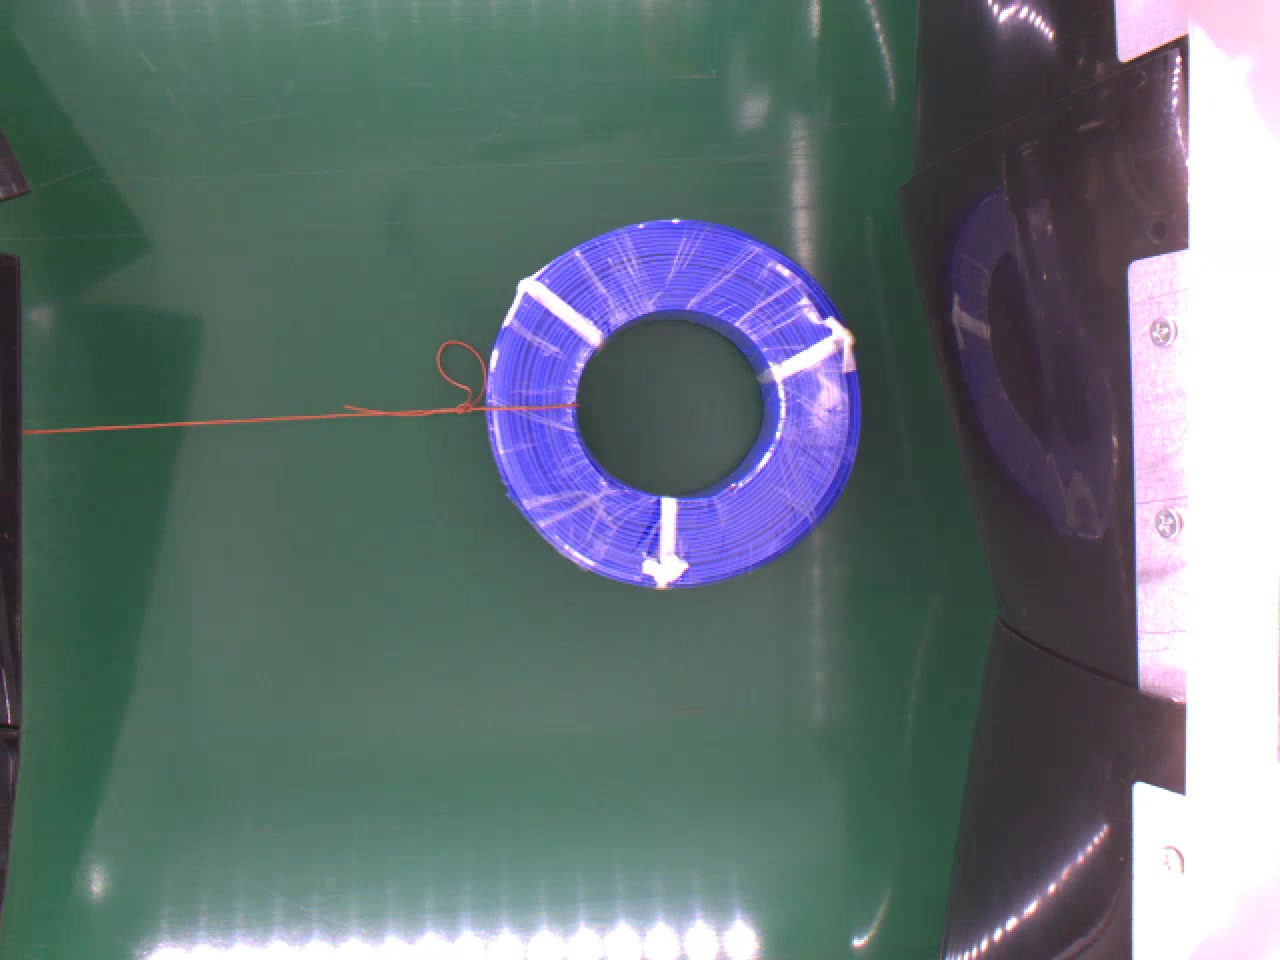blue: (479, 209, 871, 587)
